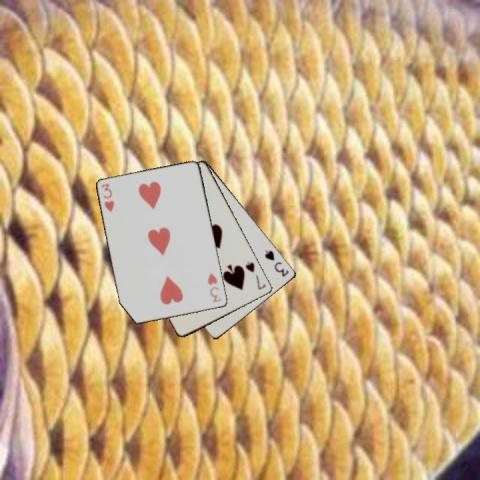3h: (205, 270, 222, 303), (99, 181, 115, 213)
3s: (262, 247, 291, 278)
7s: (243, 258, 267, 290)
